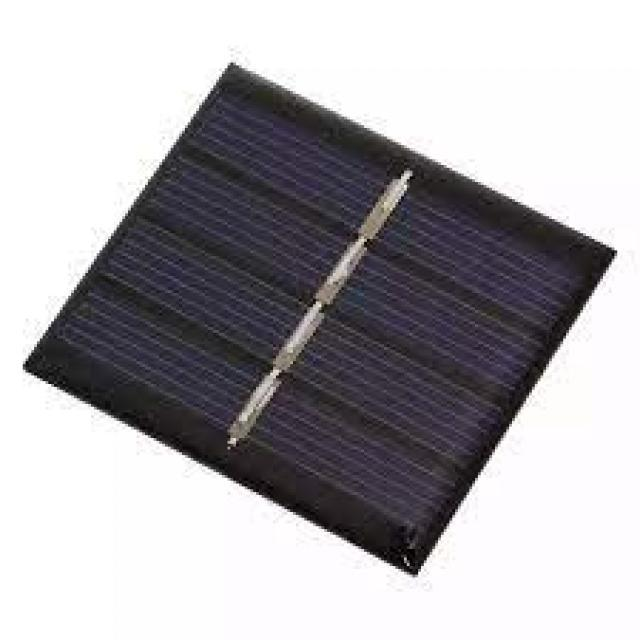no faulty: (27, 64, 616, 565)
